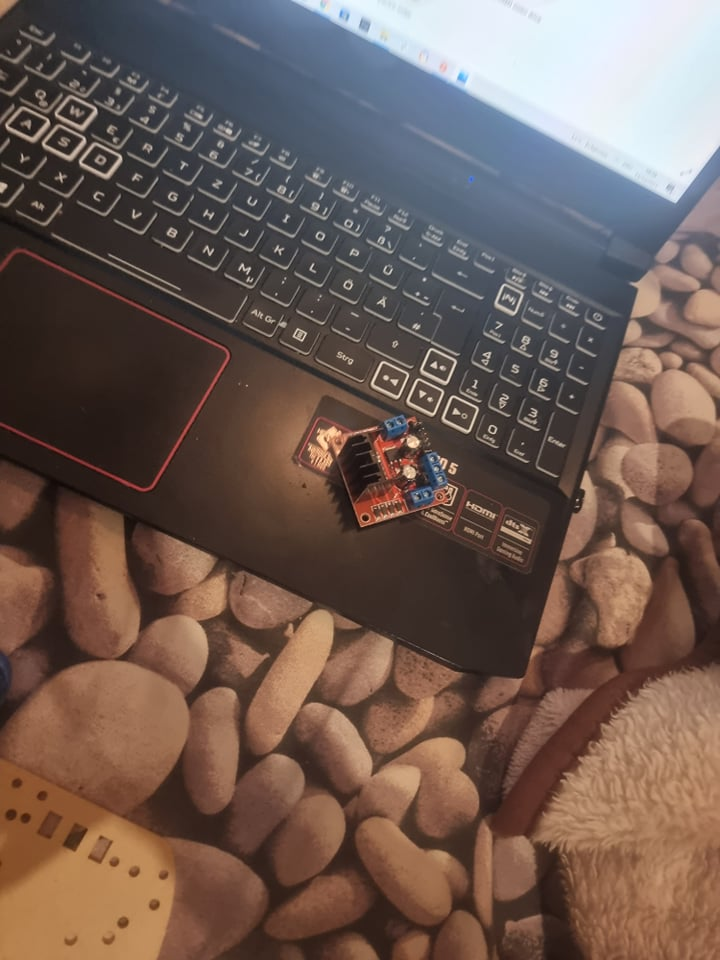MOTOR: (324, 411, 455, 531)
